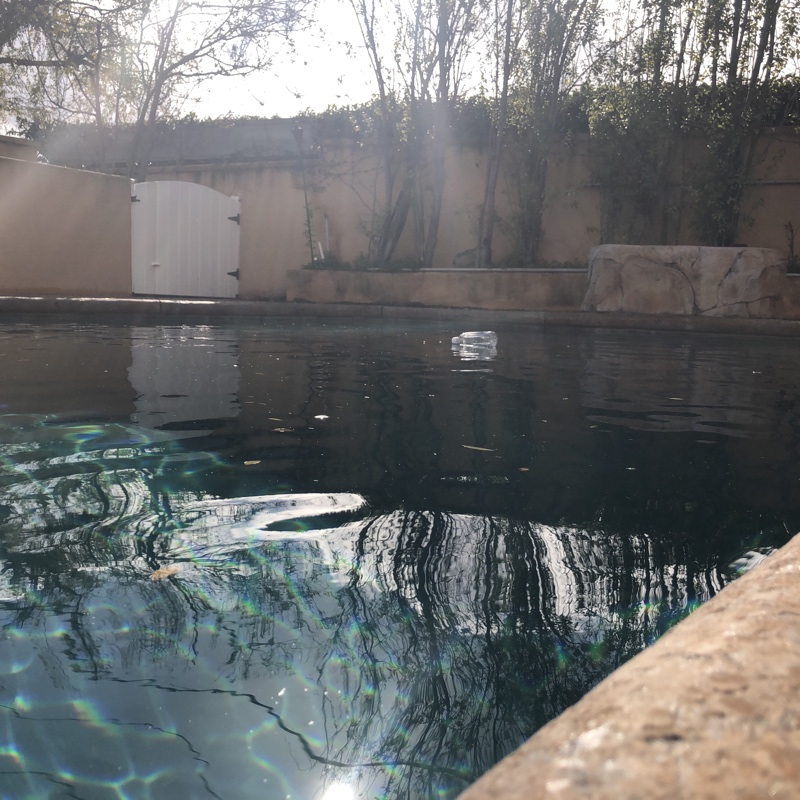Plastic Bottle: (449, 330, 497, 345)
